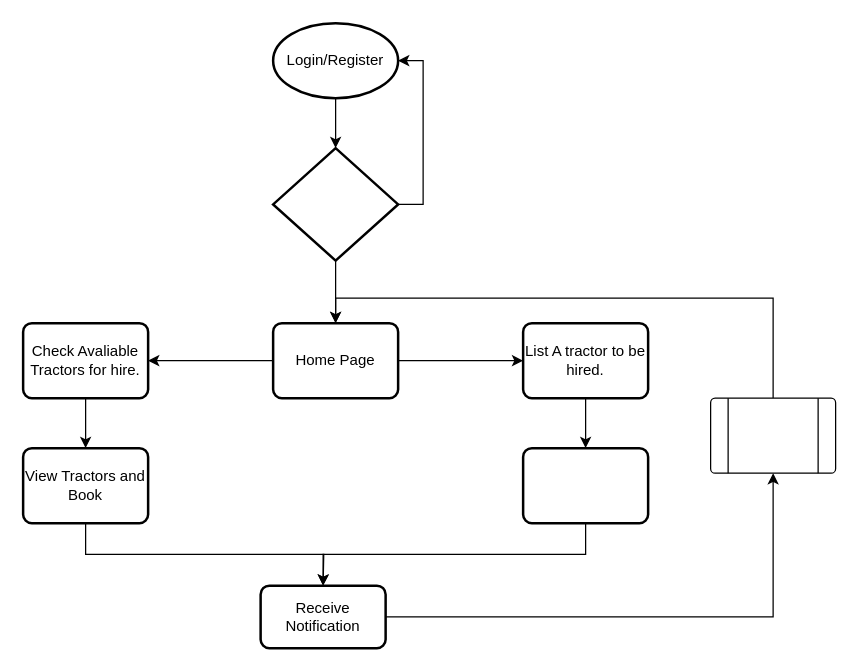
Some shapes in this 858 by 670 pixel diagram are drawn without their labels. The shapes that lost their labels are listed below. From the top down, each one's centre as x and y in pixels, then its label:
At point (335, 203): "Authentication".
At point (772, 435): "Redirection to Home Page".
At point (585, 485): "Enter Tractor Details".
